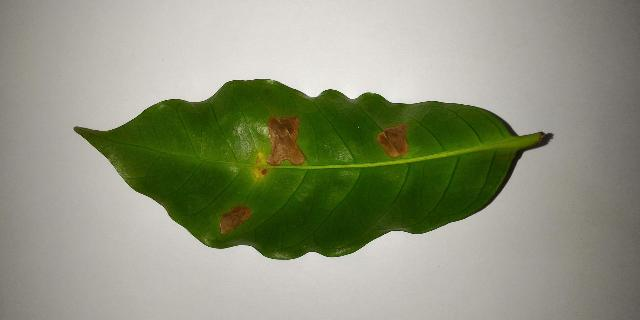cercospora: (253, 116, 305, 179), (377, 123, 408, 157), (220, 206, 251, 234)
